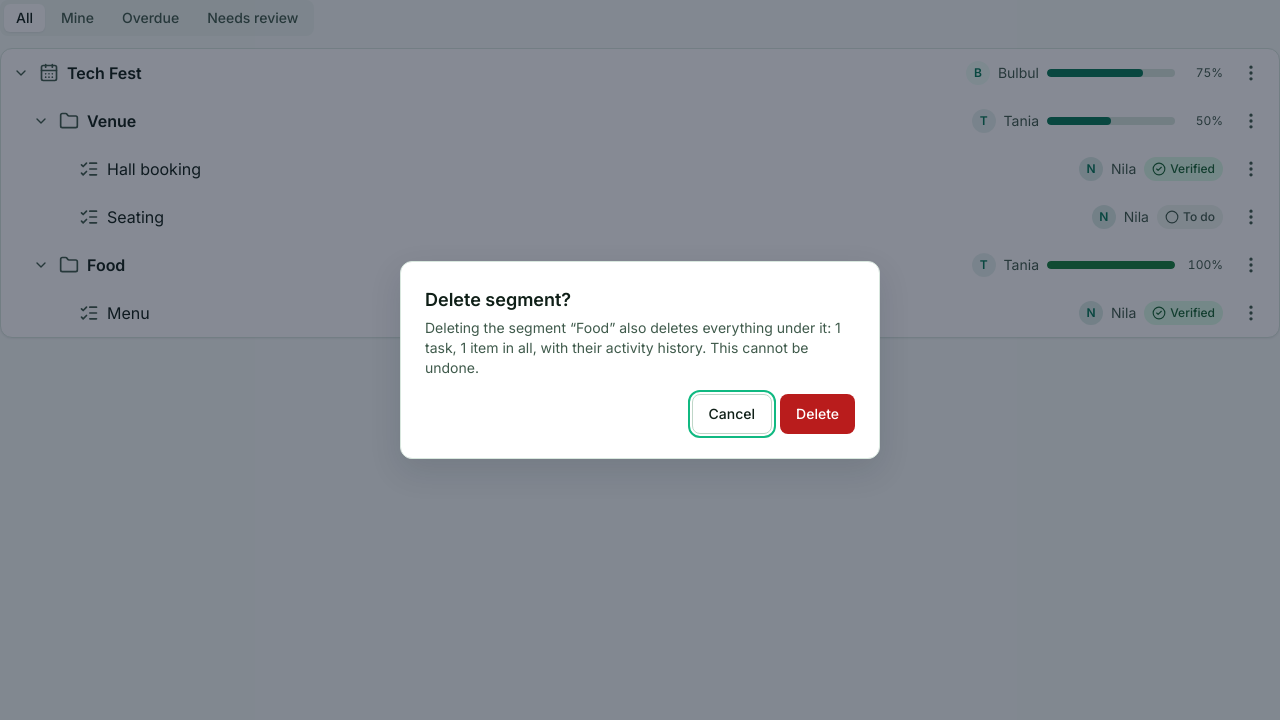
Test case: Delete in the row menu › removes the segment and updates the event progress at once, then refreshes
This screenshot has width=1280, height=720.
Earlier steps of the test are not shown.
Click the button "Delete".
click(818, 414)  # box [780,394,855,434]
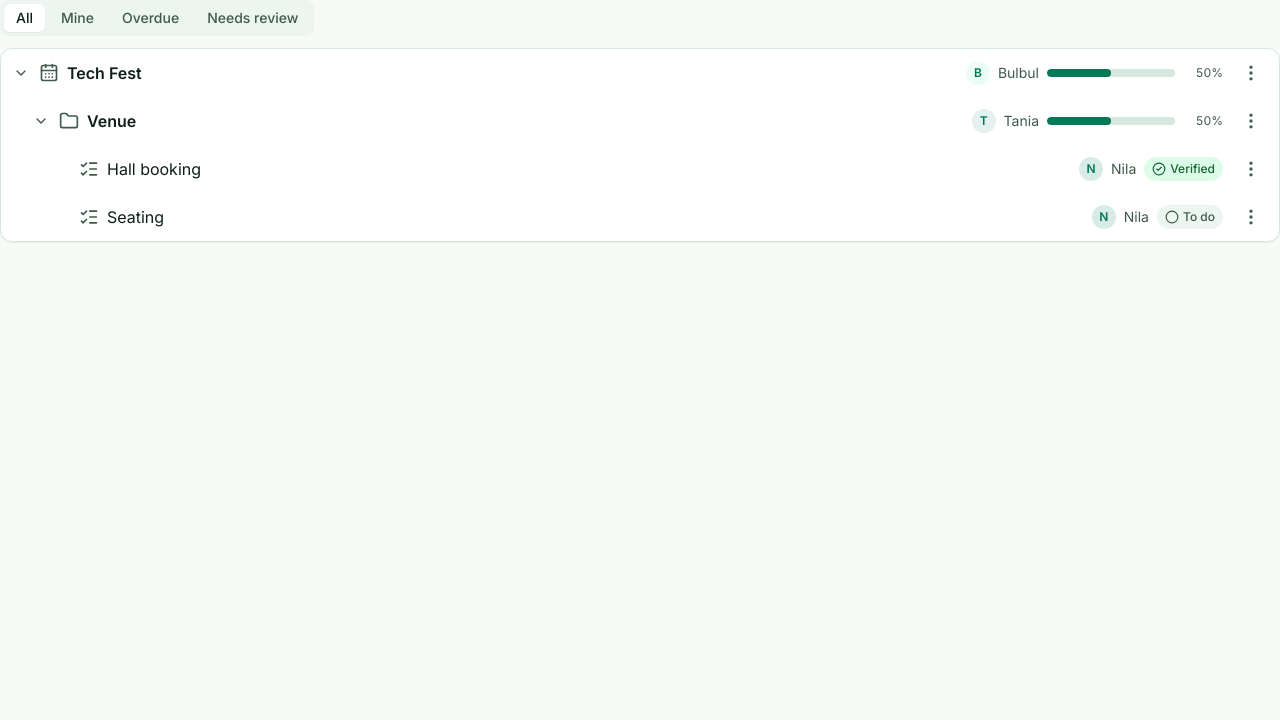
Expected: the text "Food" is gone
